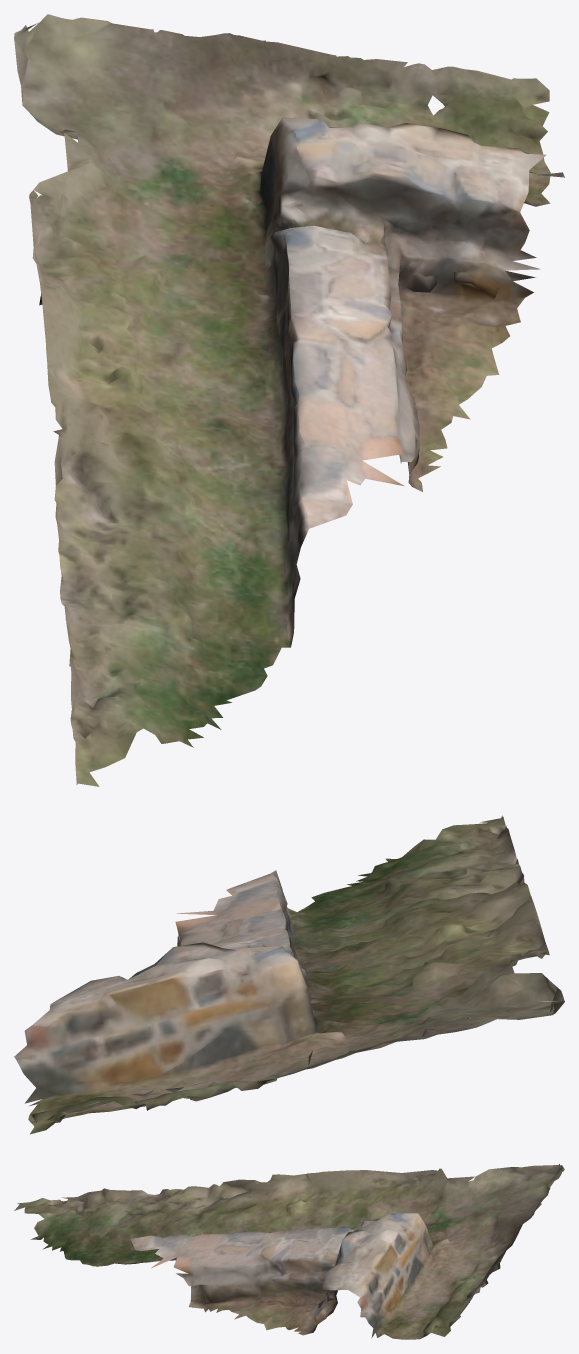
Rendered from cpuzzle500_7.glb.
3 renders of one model, top to bottom at view 1: azimuth 30°, elevation 25°; view 2: azimuth 210°, elevation 25°; view 3: azimuth 270°, elevation 25°, orthographic. The views are drawn at different scales.
Parts seen in each view (by area): view 1: Mesh_0.002; view 2: Mesh_0.002; view 3: Mesh_0.002.
Boxes of the visible parts, <box> form: Mesh_0.002: <box>14,14,564,786</box>; Mesh_0.002: <box>14,815,564,1134</box>; Mesh_0.002: <box>14,1164,564,1339</box>.
Bounding box in the file's own units: 11.76 × 3.83 × 11.81.
Materials: 1 (1 with a texture image).
